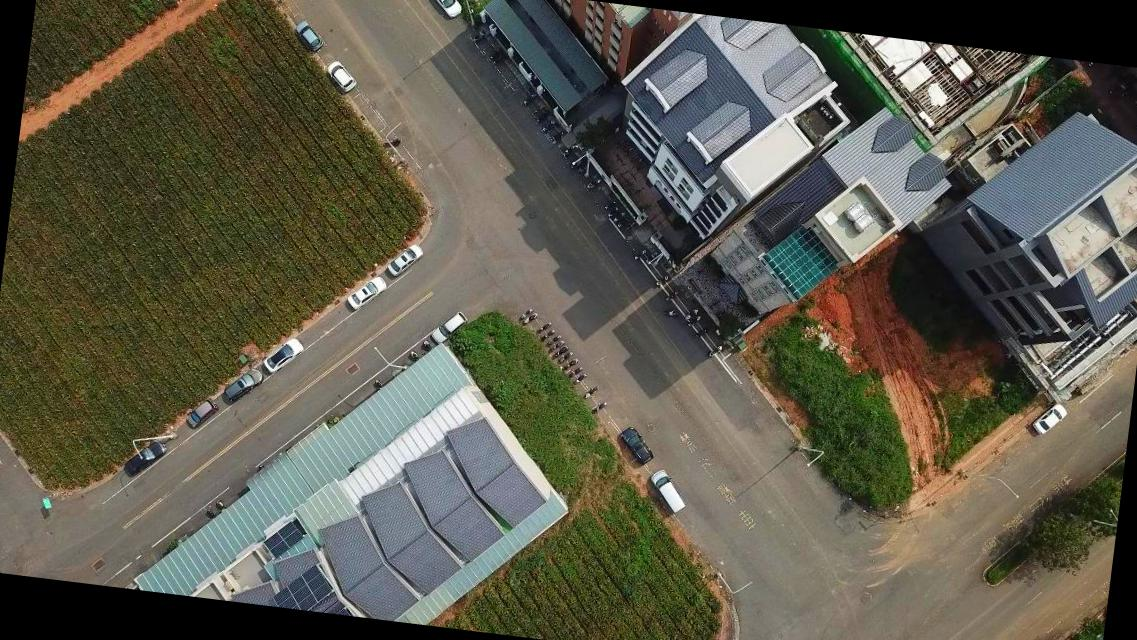vehicle: (645, 467, 688, 515), (120, 434, 164, 478), (261, 333, 304, 378), (614, 424, 656, 466), (383, 238, 424, 280), (346, 271, 386, 312), (222, 366, 260, 406), (430, 308, 467, 348), (1030, 401, 1068, 437), (184, 396, 220, 432), (323, 60, 359, 94), (294, 18, 326, 51), (422, 0, 465, 21)
